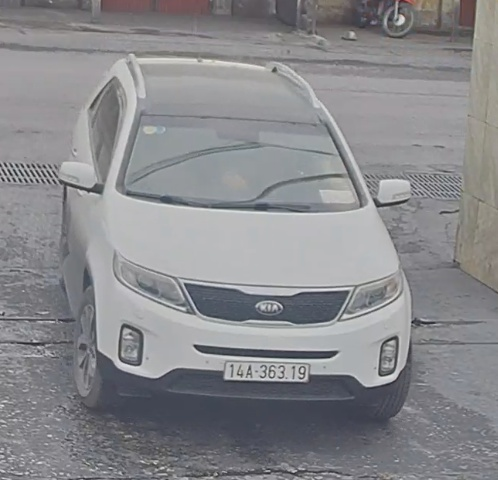vehicle plate: (219, 350, 314, 391)
